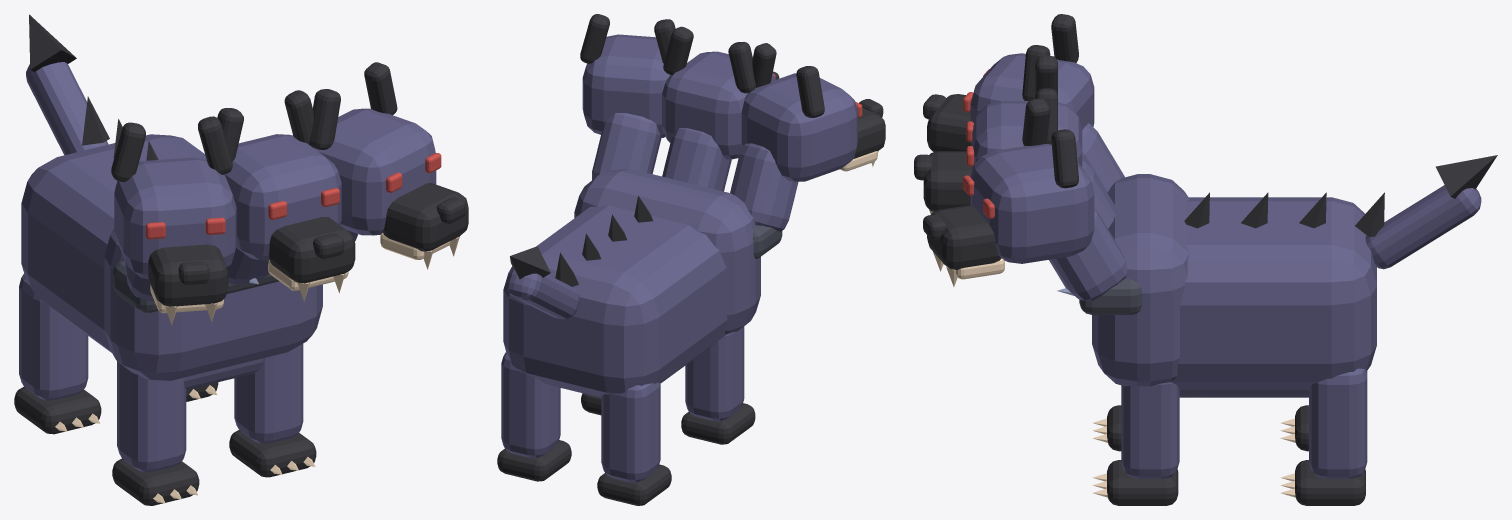
Rendered from cerbere.glb.
3 views of the same model, side by side, from view 1: azimuth 30°, elevation 25°; view 2: azimuth 150°, elevation 25°; view 3: azimuth 270°, elevation 25° (orthographic). The views are drawn at different scales.
Visible parts, largest first — view 1: body, head-r, head-c, head-l, leg-fr, leg-br, leg-fl, tail, eyes-r, eyes-c, eyes-l; view 2: body, head-r, head-c, head-l, leg-br, leg-bl, leg-fr, tail; view 3: body, head-l, head-r, leg-bl, head-c, leg-fl, tail, leg-fr, leg-br.
Part boxes in pixels (bbox=[...]): body: bbox=[21, 96, 322, 389]; head-r: bbox=[111, 116, 236, 325]; head-c: bbox=[217, 90, 355, 301]; head-l: bbox=[309, 62, 468, 269]; leg-fr: bbox=[112, 361, 199, 505]; leg-br: bbox=[14, 274, 101, 434]; leg-fl: bbox=[229, 344, 316, 477]; tail: bbox=[26, 14, 108, 155]; eyes-r: bbox=[145, 217, 225, 239]; eyes-c: bbox=[268, 188, 339, 219]; eyes-l: bbox=[386, 153, 441, 192]; body: bbox=[503, 169, 782, 397]; head-r: bbox=[730, 43, 885, 231]; head-c: bbox=[662, 26, 779, 191]; head-l: bbox=[580, 14, 675, 179]; leg-br: bbox=[597, 382, 671, 505]; leg-bl: bbox=[497, 352, 571, 481]; leg-fr: bbox=[681, 326, 755, 444]; tail: bbox=[507, 246, 579, 319]; body: bbox=[1057, 174, 1384, 397]; head-l: bbox=[923, 98, 1126, 301]; head-r: bbox=[923, 14, 1124, 192]; leg-bl: bbox=[1280, 368, 1367, 505]; head-c: bbox=[914, 55, 1115, 228]; leg-fl: bbox=[1092, 382, 1179, 505]; tail: bbox=[1365, 155, 1497, 269]; leg-fr: bbox=[1092, 405, 1121, 451]; leg-br: bbox=[1280, 405, 1308, 451].
Bounding box in the file's own units: 0.5291 × 0.6735 × 0.9016.
Materials: 1 (1 with a texture image).
